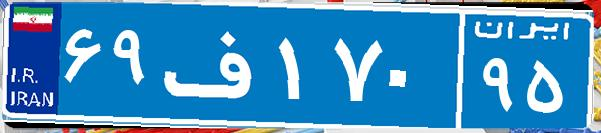0: (385, 28, 445, 110)
1: (273, 28, 330, 110)
5: (525, 38, 570, 115)
6: (57, 26, 110, 107)
7: (330, 28, 385, 110)
9: (475, 38, 525, 113), (110, 28, 158, 105)
ف: (158, 15, 273, 115)
